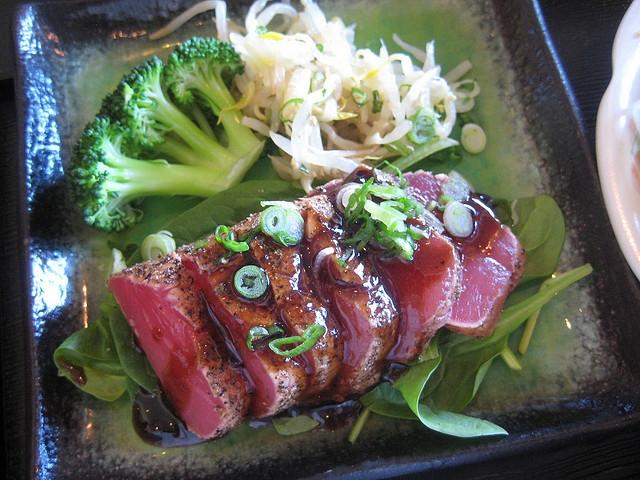broccoli: (65, 36, 267, 234)
green onion: (256, 201, 306, 247), (268, 322, 324, 358), (406, 106, 436, 146), (336, 182, 372, 214), (235, 265, 268, 299), (141, 230, 176, 261), (443, 202, 473, 237), (340, 214, 373, 244), (216, 224, 250, 252), (461, 123, 486, 154)
